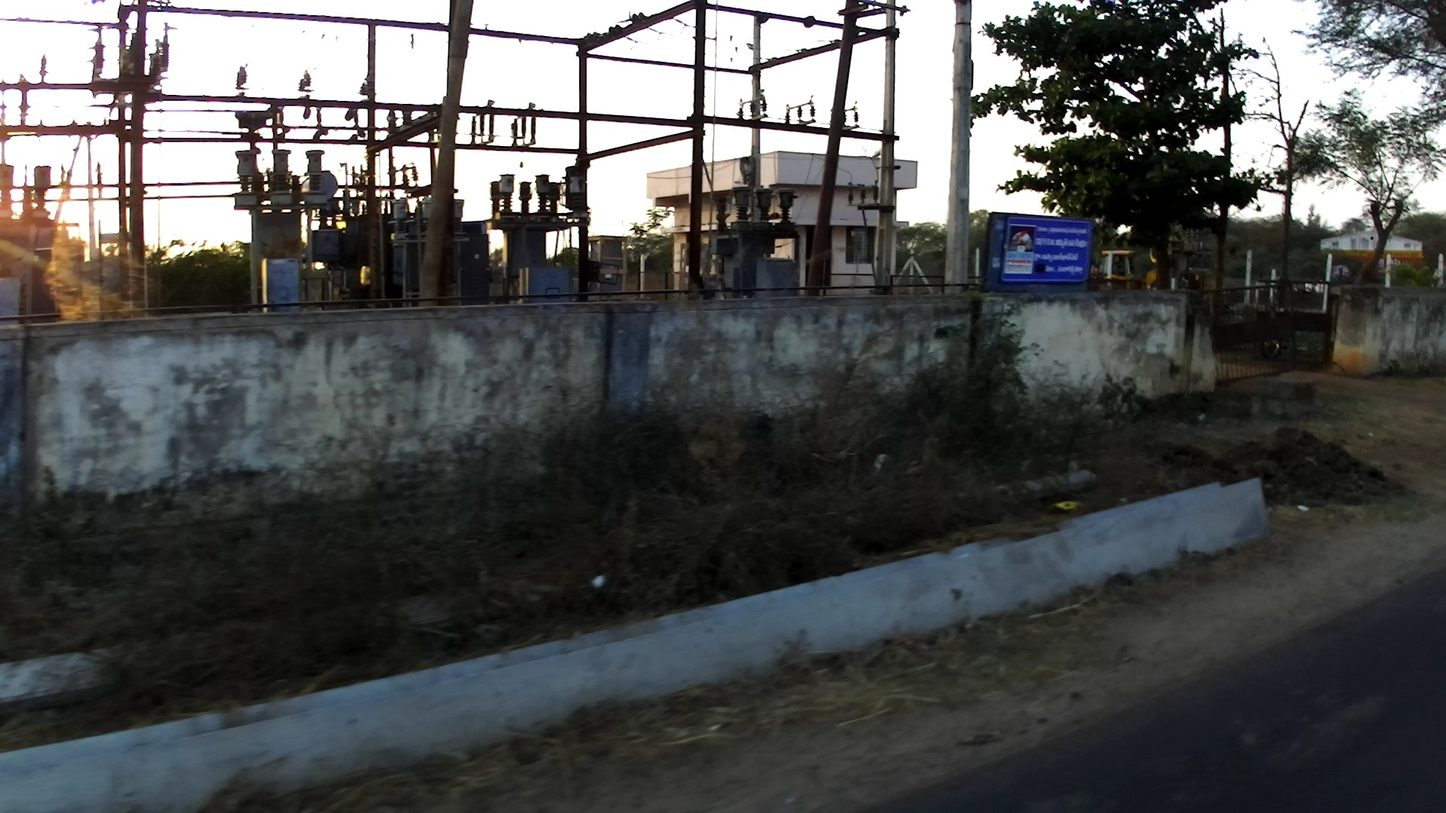vehicle fallback: (1091, 247, 1144, 293)
